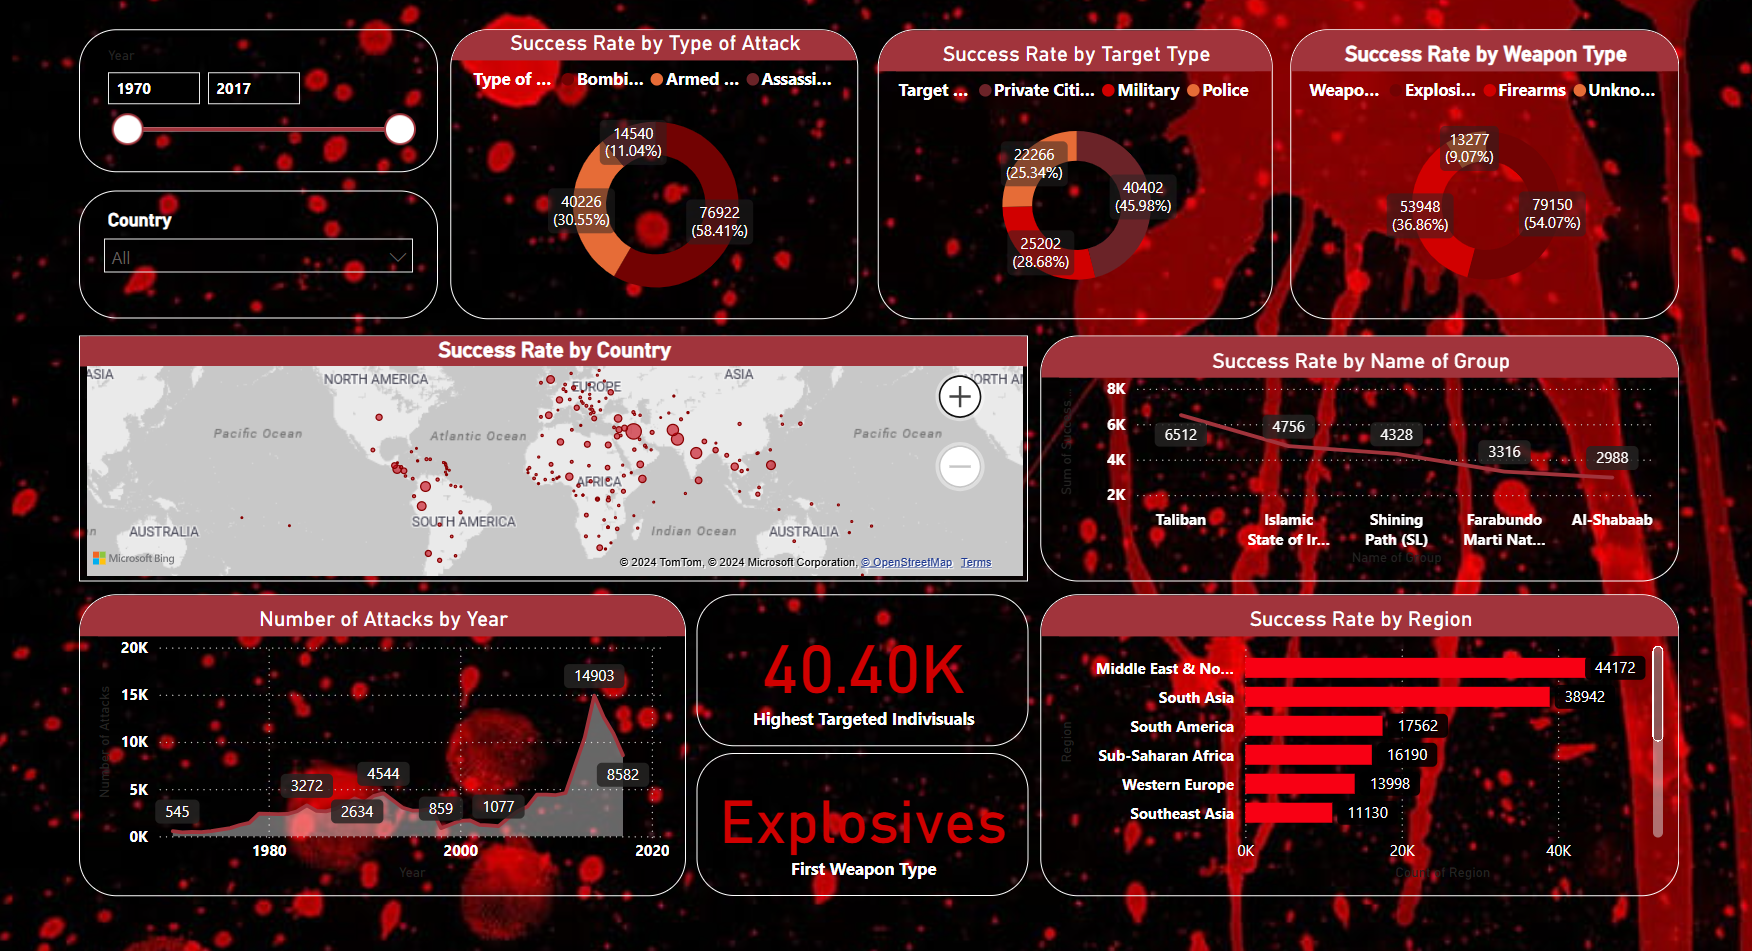

This screenshot's page, from the dashboard's own definition file:
{"tool":"powerbi","page":{"name":"Global Terrorism Report","canvas":[1280,720],"ordinal":0},"visuals":[{"type":"donutChart","title":"Success Rate by Type of Attack","fields":{"Category":["Final Data.Type of Attack"],"Y":["Sum(Final Data.Success Rate)"]},"box":[297.2,12.7,325.4,232.4],"z":0},{"type":"donutChart","title":"Success Rate by Target Type","fields":{"Y":["Sum(Final Data.Success Rate)"],"Category":["Final Data.Target Type"]},"box":[639.4,12.7,315.5,232.4],"z":1000},{"type":"donutChart","title":"Success Rate by Weapon Type","fields":{"Y":["Sum(Final Data.Success Rate)"],"Category":["Final Data.Weapon Type"]},"box":[969,12.7,311.3,232.4],"z":2000},{"type":"map","title":"Success Rate by Country","fields":{"Category":["Final Data.Country"],"Size":["Sum(Final Data.Success Rate)"]},"box":[0,257.7,759.2,197.2],"z":3000},{"type":"slicer","fields":{"Values":["Final Data.Country"]},"box":[0,142.3,287.3,102.8],"z":4000},{"type":"barChart","title":"Success Rate by Region","fields":{"Y":["CountNonNull(Final Data.Region)"],"Category":["Final Data.Region"]},"box":[769,464.8,511.3,242.3],"z":5000},{"type":"lineChart","title":"Success Rate by Name of Group","fields":{"Category":["Final Data.Name of Group"],"Y":["Sum(Final Data.Success Rate)"]},"box":[769,257.7,511.3,197.2],"z":6000},{"type":"slicer","fields":{"Values":["Final Data.Year"]},"box":[0,12.7,287.3,115.5],"z":7000},{"type":"areaChart","fields":{"Category":["Final Data.Year"],"Y":["CountNonNull(Final Data.Year)"]},"box":[0,464.8,484.5,242.3],"z":8000},{"type":"card","fields":{"Values":["CountNonNull(Final Data.Target Type)"]},"box":[494.4,464.8,264.8,122.5],"z":9000},{"type":"card","fields":{"Values":["Min(Final Data.Weapon Type)"]},"box":[494.4,591.5,264.8,115.5],"z":10000}]}

Visuals, with their boxes in screenshot pixels (x1, y1, x2, y2):
"Success Rate by Type of Attack" donutChart: detection(446, 20, 854, 312)
"Success Rate by Target Type" donutChart: detection(875, 20, 1270, 312)
"Success Rate by Weapon Type" donutChart: detection(1288, 20, 1678, 312)
"Success Rate by Country" map: detection(73, 328, 1025, 575)
slicer - Final Data.Country: detection(73, 183, 433, 312)
"Success Rate by Region" barChart: detection(1037, 587, 1678, 891)
"Success Rate by Name of Group" lineChart: detection(1037, 328, 1678, 575)
slicer - Final Data.Year: detection(73, 20, 433, 165)
areaChart - Final Data.Year x CountNonNull(Final Data.Year): detection(73, 587, 680, 891)
card - CountNonNull(Final Data.Target Type): detection(693, 587, 1025, 741)
card - Min(Final Data.Weapon Type): detection(693, 746, 1025, 891)
